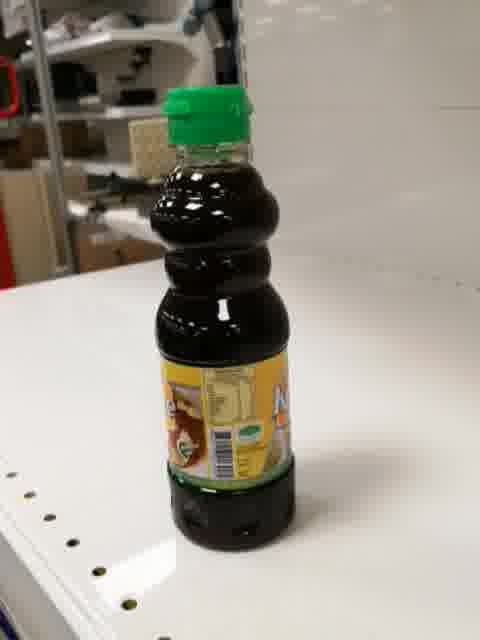cookingoil: (149, 83, 299, 554)
